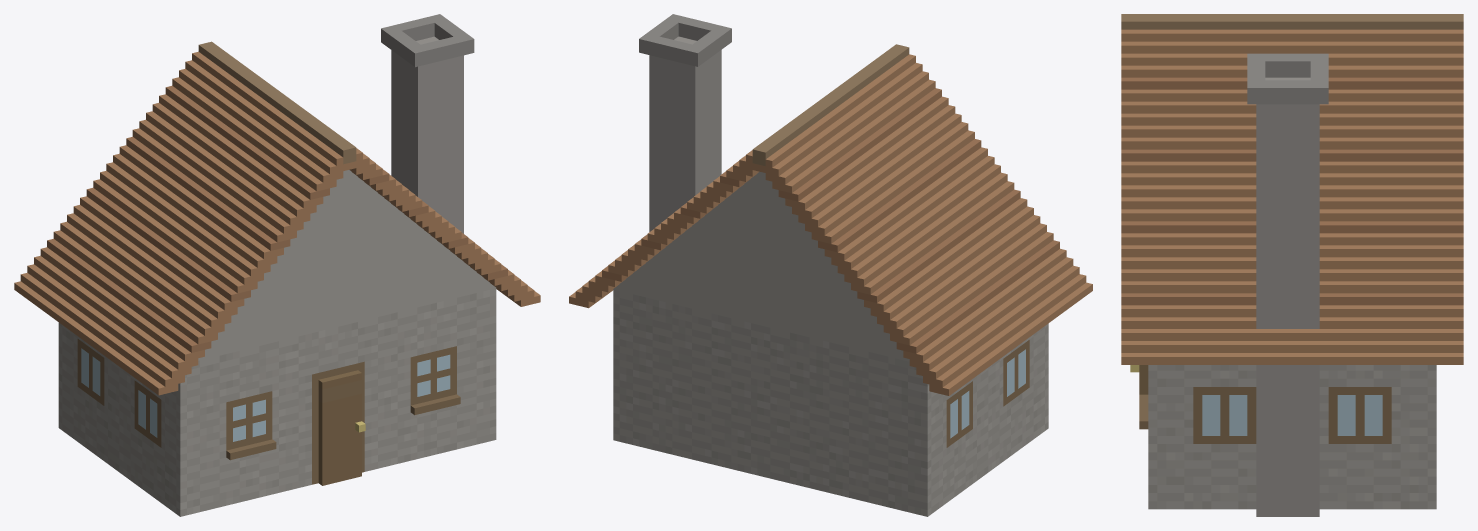
The model's file is maison_auberge.glb.
3 views of the same model, side by side, from view 1: azimuth 30°, elevation 25°; view 2: azimuth 150°, elevation 25°; view 3: azimuth 270°, elevation 25° (orthographic). The views are drawn at different scales.
Visible parts, largest first — view 1: geometry_0; view 2: geometry_0; view 3: geometry_0.
Part boxes in pixels (box(x1,y1,x2,y2)): geometry_0: box(14, 14, 540, 516); geometry_0: box(569, 14, 1092, 516); geometry_0: box(1121, 14, 1463, 516).
Bounding box in the file's own units: 7.25 × 6.62 × 4.75.
